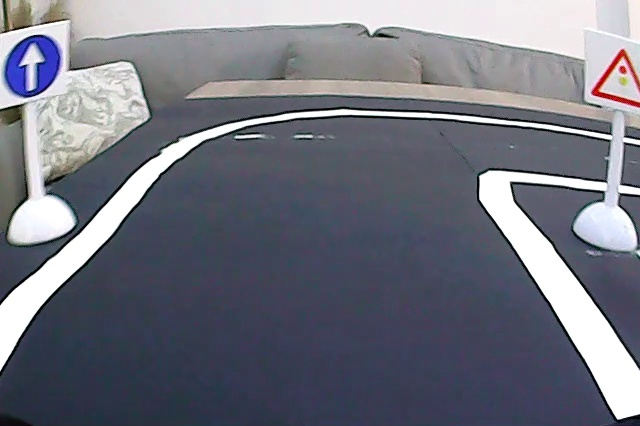red light: (583, 33, 640, 109)
